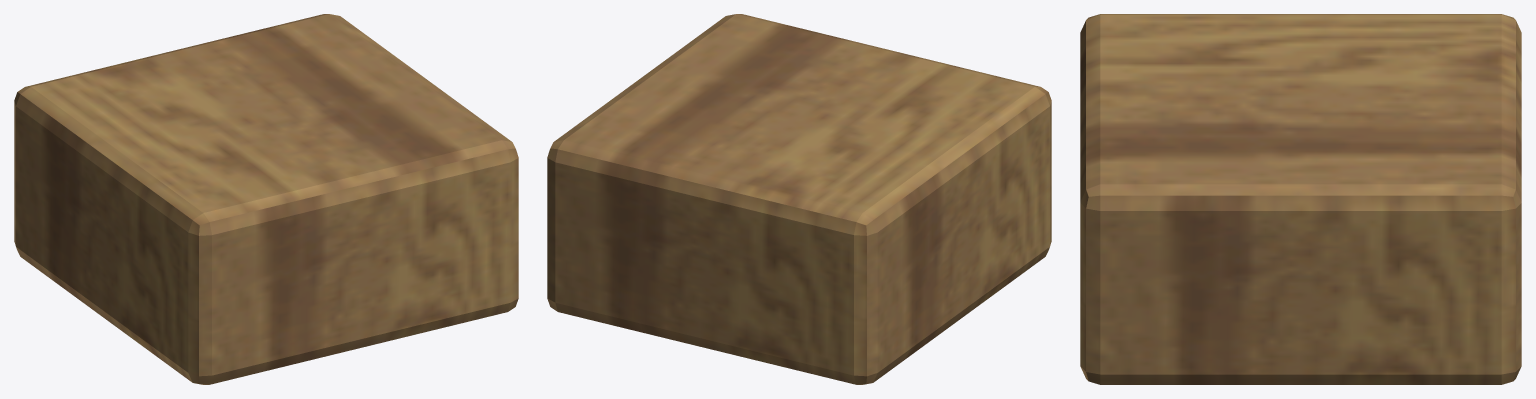
The model's file is DarkHalfCubeSmall.fbx.
3 views of the same model, side by side, from view 1: azimuth 30°, elevation 25°; view 2: azimuth 150°, elevation 25°; view 3: azimuth 270°, elevation 25° (orthographic). The views are drawn at different scales.
Visible parts, largest first — view 1: Cube.011; view 2: Cube.011; view 3: Cube.011.
Boxes of the visible parts, bbox=[...] form: Cube.011: bbox=[14, 14, 518, 384]; Cube.011: bbox=[547, 14, 1051, 384]; Cube.011: bbox=[1080, 14, 1521, 384].
Bounding box in the file's own units: 200 × 100 × 200.
